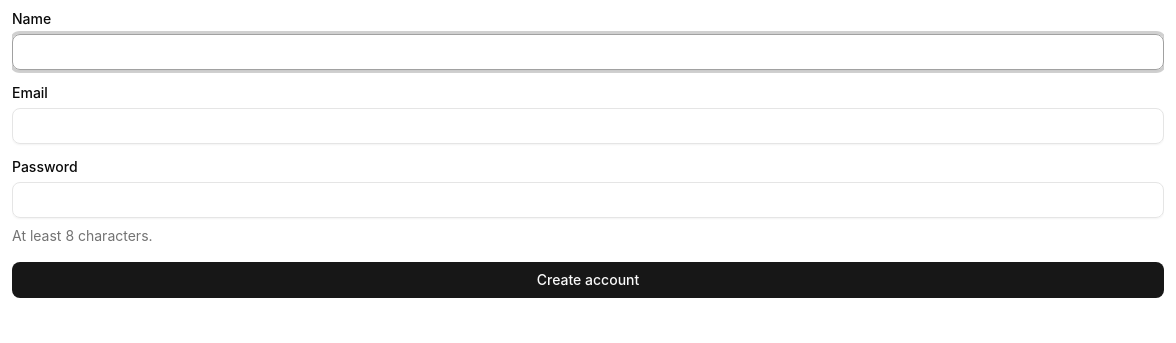
RegisterForm › enforces the minimum password length client-side
Type "Ada" into the field labelled "Name". click: point(588, 52)
box: [12,34,1164,70]
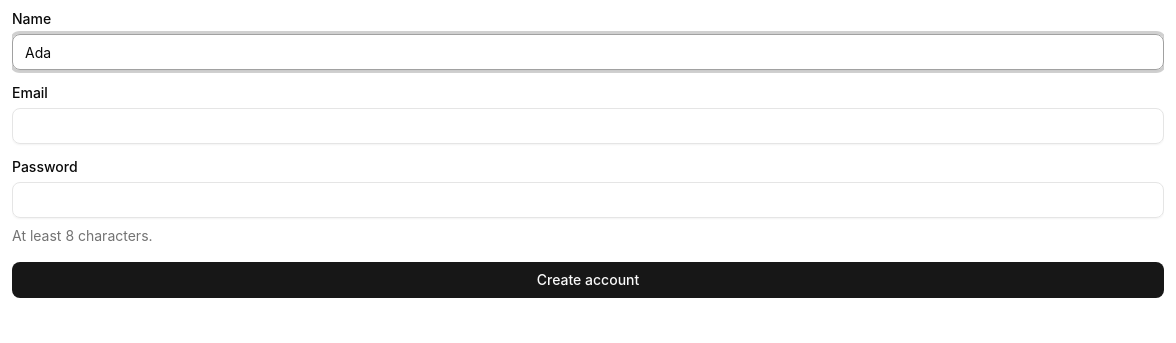
Type "ada@example.com" into the field labelled "Email". click: point(588, 126)
box: [12,108,1164,144]
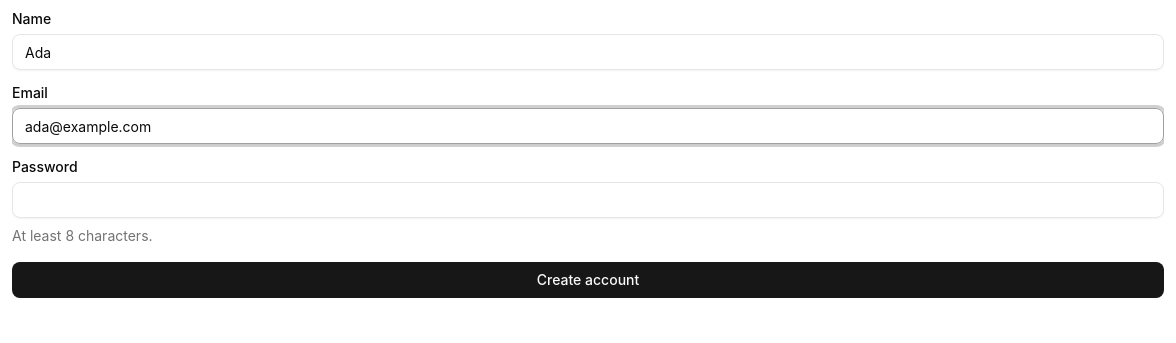
Type "short" into the password field labelled "Password". click: point(588, 200)
box: [12,182,1164,218]
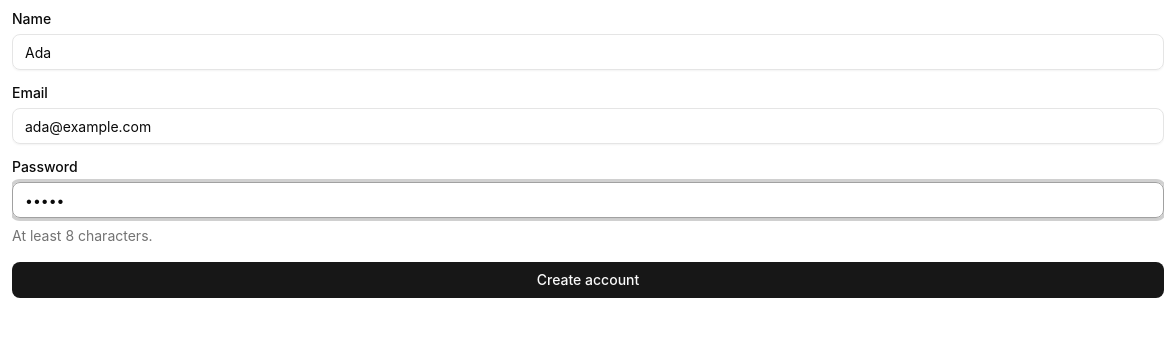
Click the button "Create account". click: point(588, 280)
box: [12,262,1164,298]
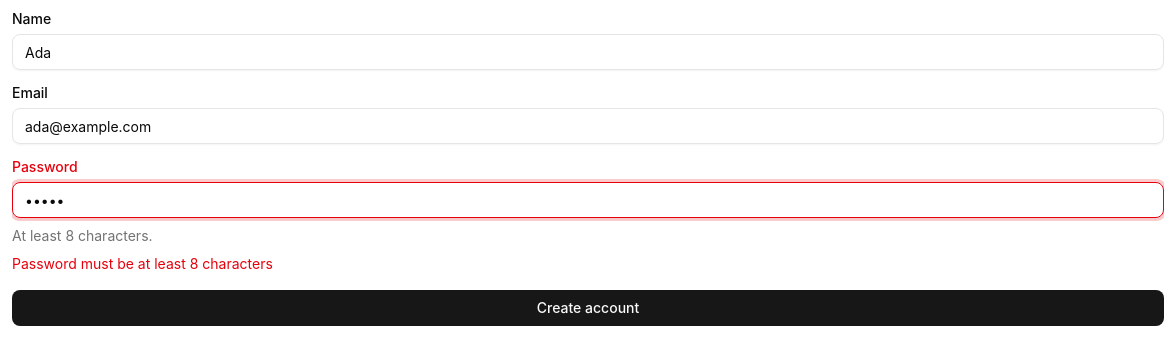
expect the text "Password must be at least 8 characters" is shown: met, box [12,255,273,272]
